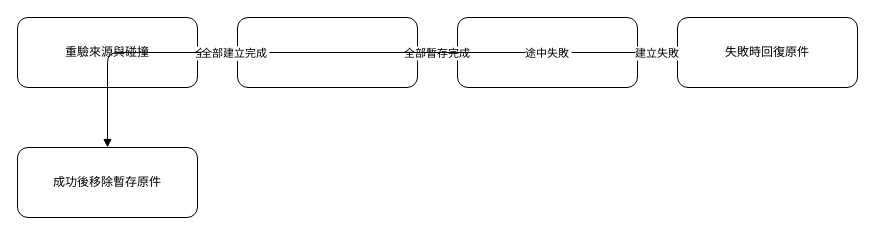
This 875x235 diagram has some shape labels left out. Here are the shapes that lost their labels. From the top down, the centre of each, then its label:
At pixel 327 52: "暫存全部原件".
At pixel 547 52: "獨占建立新檔案".
